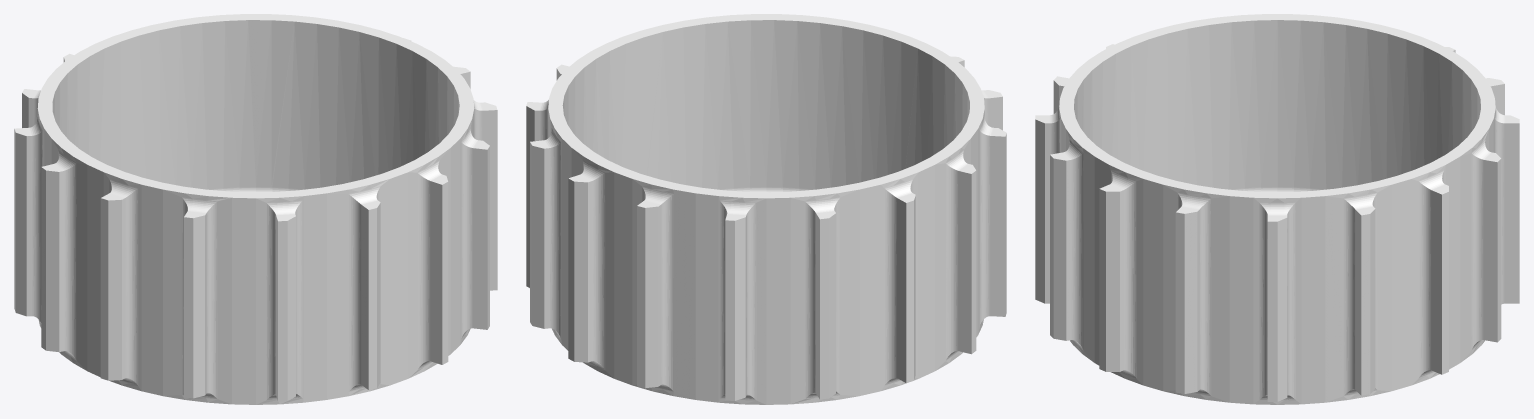
Rendered from wheel_link.dae.
The picture shows the model from 3 angles, left to right: view 1: azimuth 30°, elevation 25°; view 2: azimuth 150°, elevation 25°; view 3: azimuth 270°, elevation 25°; orthographic projection.
Parts seen in each view (by area): view 1: wheel_link; view 2: wheel_link; view 3: wheel_link.
Part boxes in pixels (x1=…): wheel_link: x1=14, y1=14, x2=497, y2=404; wheel_link: x1=526, y1=14, x2=1006, y2=404; wheel_link: x1=1035, y1=14, x2=1519, y2=404.
Bounding box in the file's own units: 0.0999 × 0.0999 × 0.047.
Materials: 1 (1 with a texture image).
